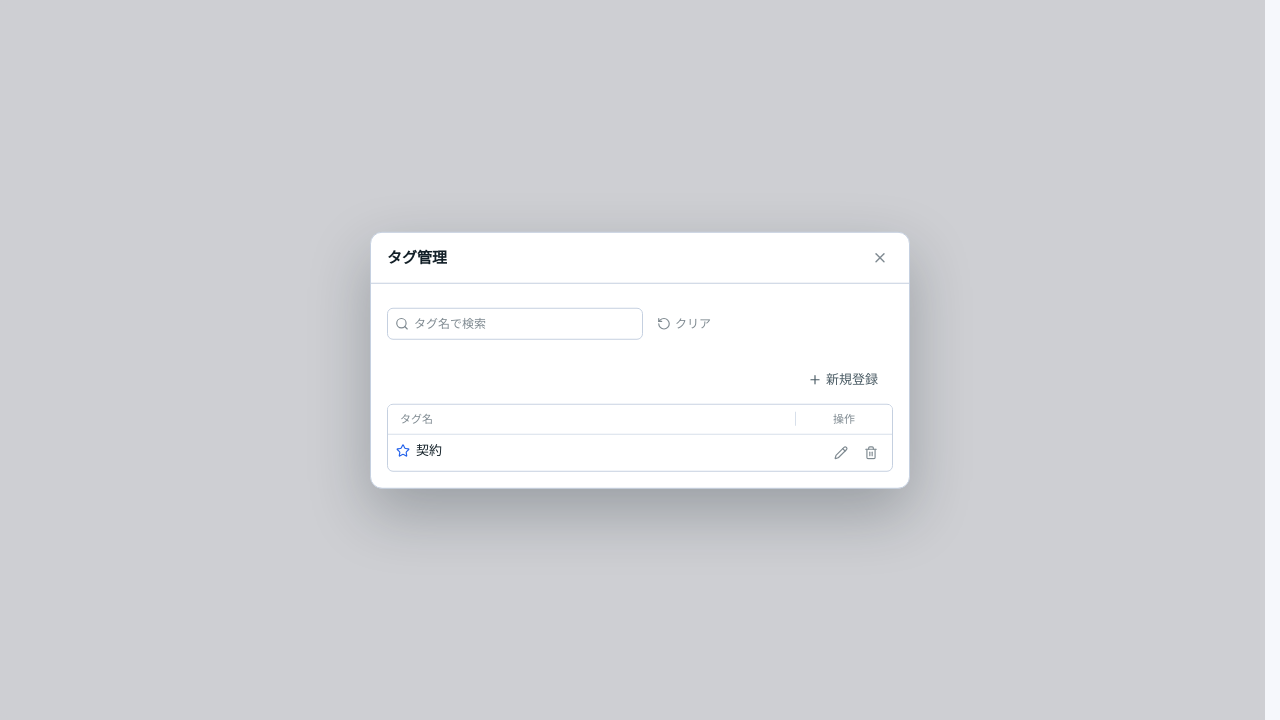
Test: TagMasterOverlay — 削除フロー 3 経路（cmn-0384・close-first 配線） › 削除ボタン → 確定で remove が呼ばれ、確定直後にダイアログが閉じる（close-first）
Click the button named "契約 を削除": (871, 452) [858, 439, 884, 465]
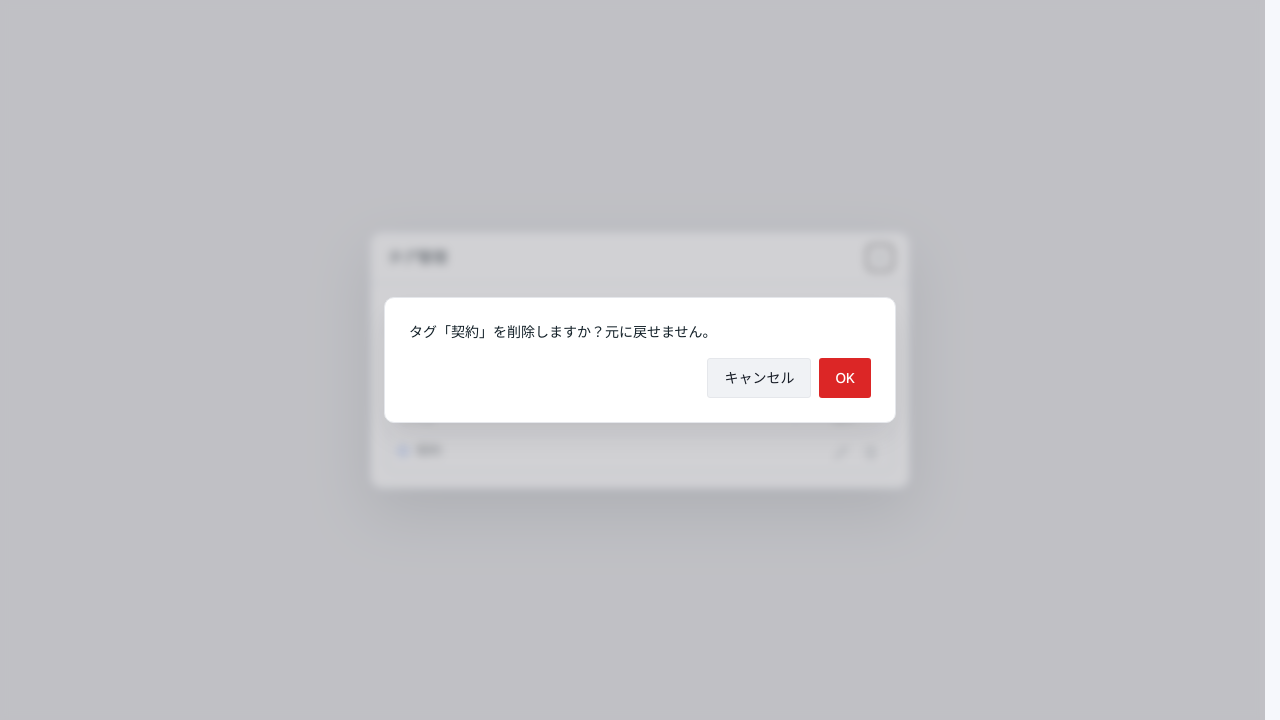
Now the dialog shows "タグ「契約」を削除しますか？元に戻せません。", box [409, 323, 717, 341]
Click the button "OK": (845, 378) [820, 358, 871, 398]
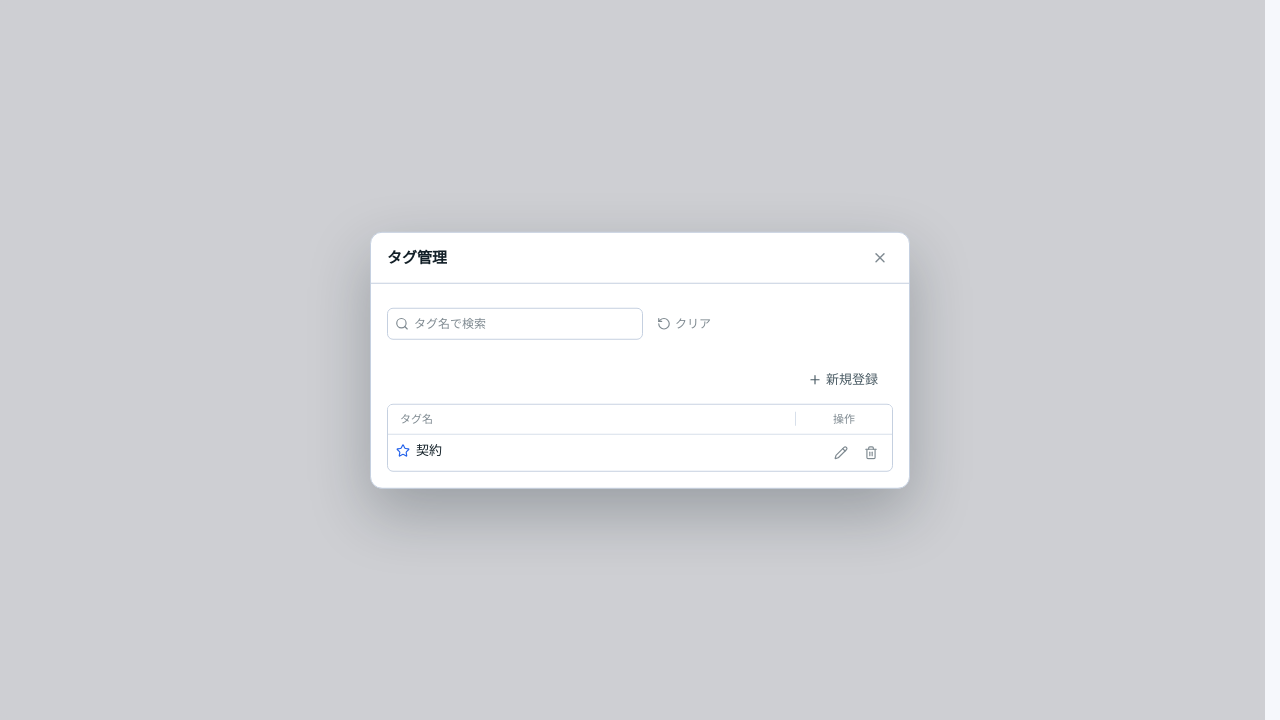
Expected: the button "新規登録" is shown, [793, 364, 893, 396]
Now the dialog "タグ「契約」を削除しますか？元に戻せません。 キャンセル OK" is gone
